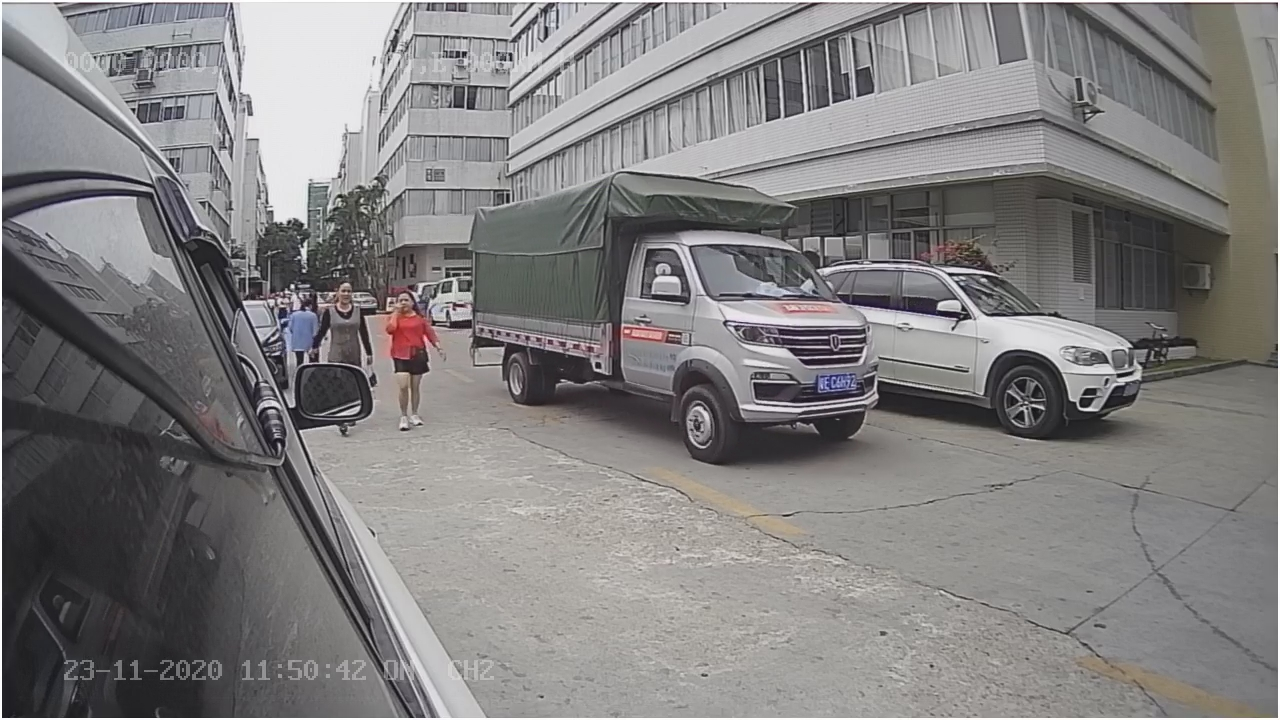person: (383, 288, 447, 426)
